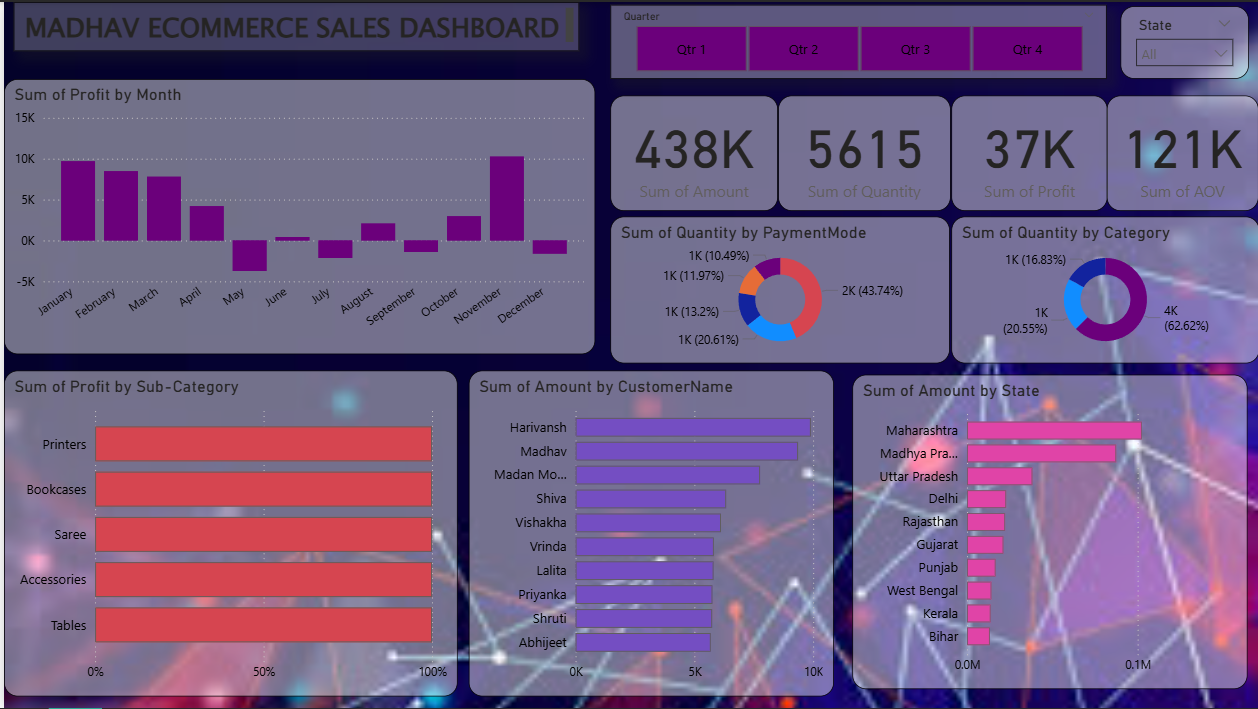

This screenshot's page, from the dashboard's own definition file:
{"tool":"powerbi","page":{"name":"Page 1","canvas":[1280,720],"ordinal":0},"visuals":[{"type":"textbox","box":[9.7,0,577,50],"z":0},{"type":"columnChart","fields":{"Y":["Details.Profit"],"Category":["Orders.Order Date.Variation.Date Hierarchy.Month"]},"box":[0,79,602.8,280.4],"z":1000},{"type":"hundredPercentStackedBarChart","fields":{"Category":["Details.Sub-Category"],"Y":["Details.Profit"]},"box":[0,375.5,462.6,332],"z":2000},{"type":"donutChart","fields":{"Category":["Details.Category"],"Y":["Details.Quantity"]},"box":[965.4,219.2,314.3,149.9],"z":3000},{"type":"donutChart","fields":{"Y":["Details.Quantity"],"Category":["Details.PaymentMode"]},"box":[618.9,219.2,346.5,149.9],"z":4000},{"type":"card","fields":{"Values":["Details.Amount"]},"box":[618.9,95.1,170.8,117.7],"z":5000},{"type":"card","fields":{"Values":["Details.Quantity"]},"box":[789.8,95.1,175.7,117.7],"z":6000},{"type":"card","fields":{"Values":["Details.Profit"]},"box":[965.4,95.1,159.6,117.7],"z":7000},{"type":"card","fields":{"Values":["Details.AOV"]},"box":[1125,95.1,154.7,117.7],"z":8000},{"type":"barChart","fields":{"Category":["Orders.State"],"Y":["Details.Amount"]},"box":[865.5,380.4,402.9,320.7],"z":9000},{"type":"barChart","fields":{"Category":["Orders.CustomerName"],"Y":["Details.Amount"]},"box":[473.9,375.5,372.3,332],"z":10000},{"type":"slicer","fields":{"Values":["Orders.Order Date.Variation.Date Hierarchy.Quarter"]},"box":[618.9,3.2,506.1,75.8],"z":11000},{"type":"slicer","fields":{"Values":["Orders.State"]},"box":[1137.9,4.8,130.6,74.1],"z":12000}]}

Visuals, with their boxes in screenshot pixels (x1, y1, x2, y2), scaled from the page's 1280x720 canvas onto the 1258x709 screenshot:
textbox: l=10, t=0, r=577, b=49
columnChart - Details.Profit x Orders.Order Date.Variation.Date Hierarchy.Month: l=0, t=78, r=592, b=354
hundredPercentStackedBarChart - Details.Sub-Category x Details.Profit: l=0, t=370, r=455, b=697
donutChart - Details.Category x Details.Quantity: l=949, t=216, r=1257, b=363
donutChart - Details.Quantity x Details.PaymentMode: l=608, t=216, r=949, b=363
card - Details.Amount: l=608, t=94, r=776, b=210
card - Details.Quantity: l=776, t=94, r=949, b=210
card - Details.Profit: l=949, t=94, r=1106, b=210
card - Details.AOV: l=1106, t=94, r=1257, b=210
barChart - Orders.State x Details.Amount: l=851, t=375, r=1247, b=690
barChart - Orders.CustomerName x Details.Amount: l=466, t=370, r=832, b=697
slicer - Orders.Order Date.Variation.Date Hierarchy.Quarter: l=608, t=3, r=1106, b=78
slicer - Orders.State: l=1118, t=5, r=1247, b=78
